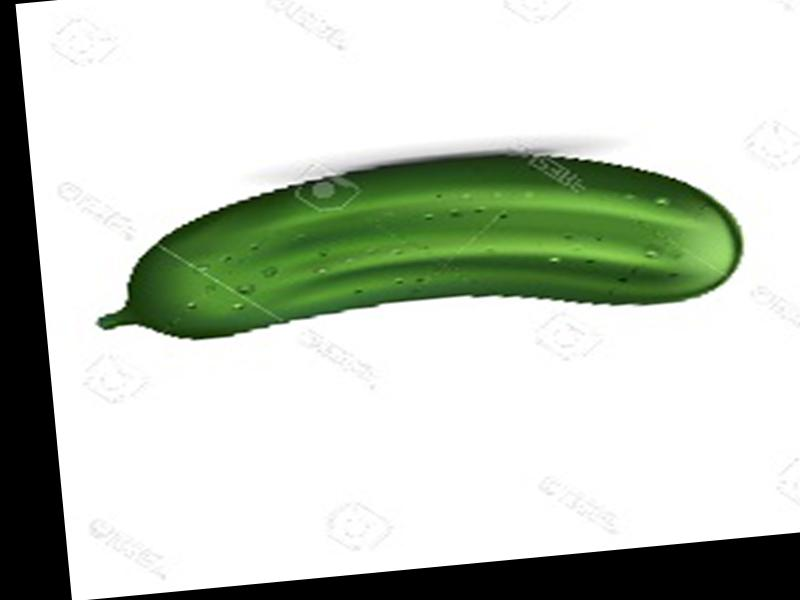Cucumber: (86, 129, 748, 356)
